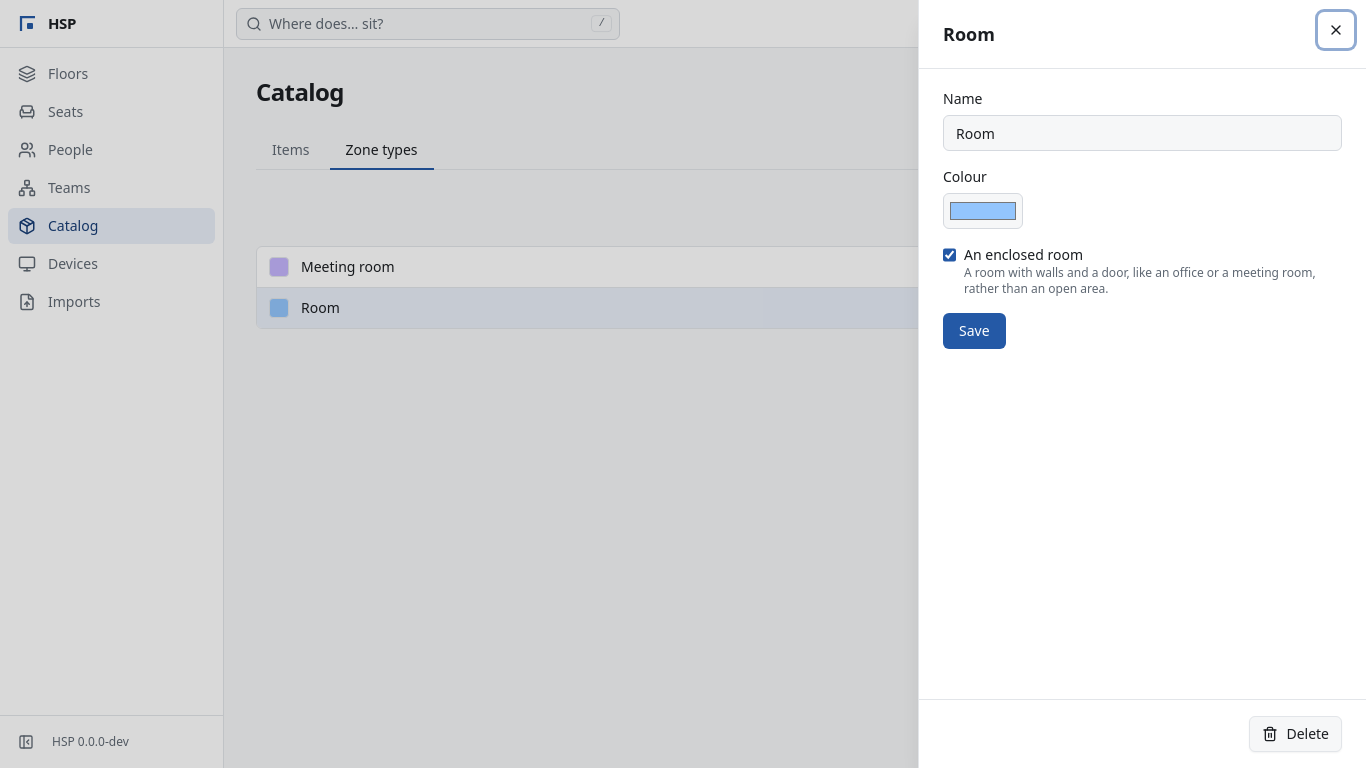
Test: zone types (docs/0095) › says why one in use can't be deleted
The width and height of the screenshot is (1366, 768).
Click the button "Delete". click: (1296, 734)
box: [1249,716,1342,752]
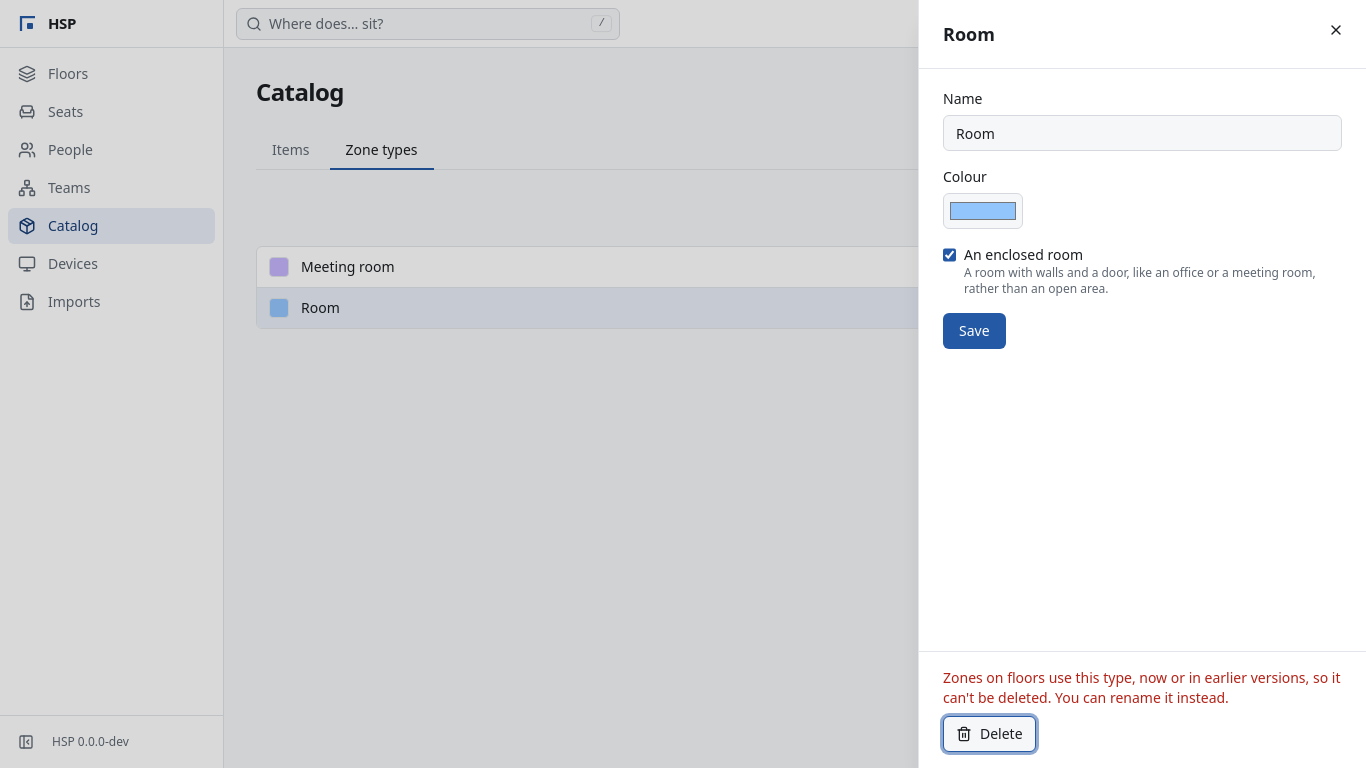
Expected: the message shows "You can rename it instead", [943,668,1340,707]
